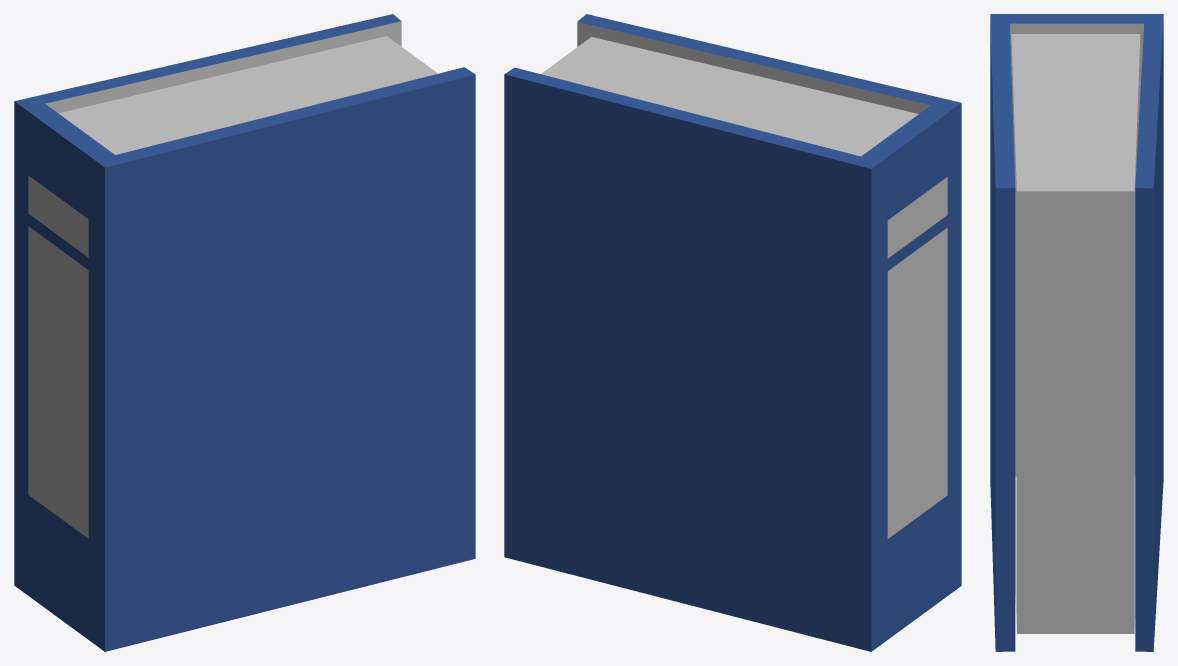
File: SM_Book_09.fbx
3 views of the same model, side by side, from view 1: azimuth 30°, elevation 25°; view 2: azimuth 150°, elevation 25°; view 3: azimuth 270°, elevation 25° (orthographic). The views are drawn at different scales.
Parts seen in each view (by area): view 1: SM_Book_09; view 2: SM_Book_09; view 3: SM_Book_09.
Boxes of the visible parts, x1,y1,x2,y2 form: SM_Book_09: [14, 14, 475, 651]; SM_Book_09: [504, 14, 961, 651]; SM_Book_09: [990, 14, 1163, 651].
Size of the model in its own units: 32.18 by 39.76 by 13.49.
Materials: 1 (1 with a texture image).
